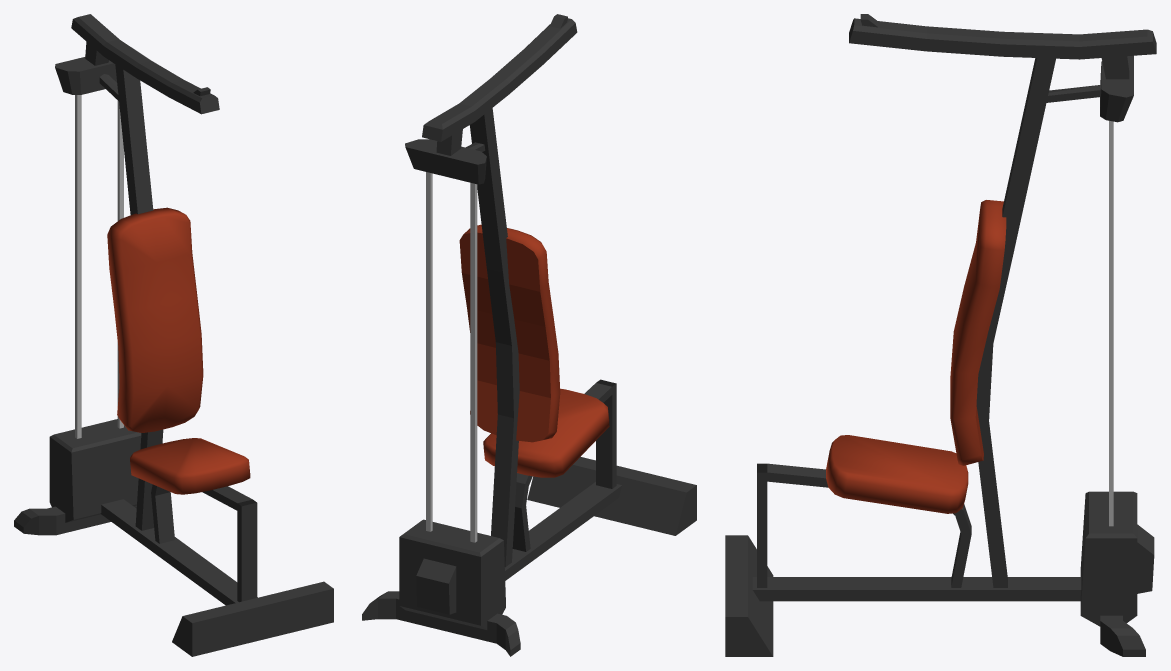
The model's file is e-machine-5.glb.
The picture shows the model from 3 angles, left to right: view 1: azimuth 30°, elevation 25°; view 2: azimuth 150°, elevation 25°; view 3: azimuth 270°, elevation 25°; orthographic projection. The views are drawn at different scales.
Visible parts, largest first — view 1: E_Machine_5; view 2: E_Machine_5; view 3: E_Machine_5.
Part boxes in pixels (box(x1,y1,x2,y2)): E_Machine_5: box(14, 14, 333, 656); E_Machine_5: box(362, 14, 696, 656); E_Machine_5: box(725, 14, 1156, 656).
Size of the model in its own units: 62.27 by 213 by 139.
1 material, 1 textured.
